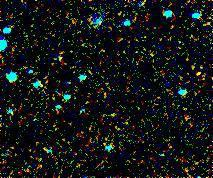star: (179, 59, 209, 89)
